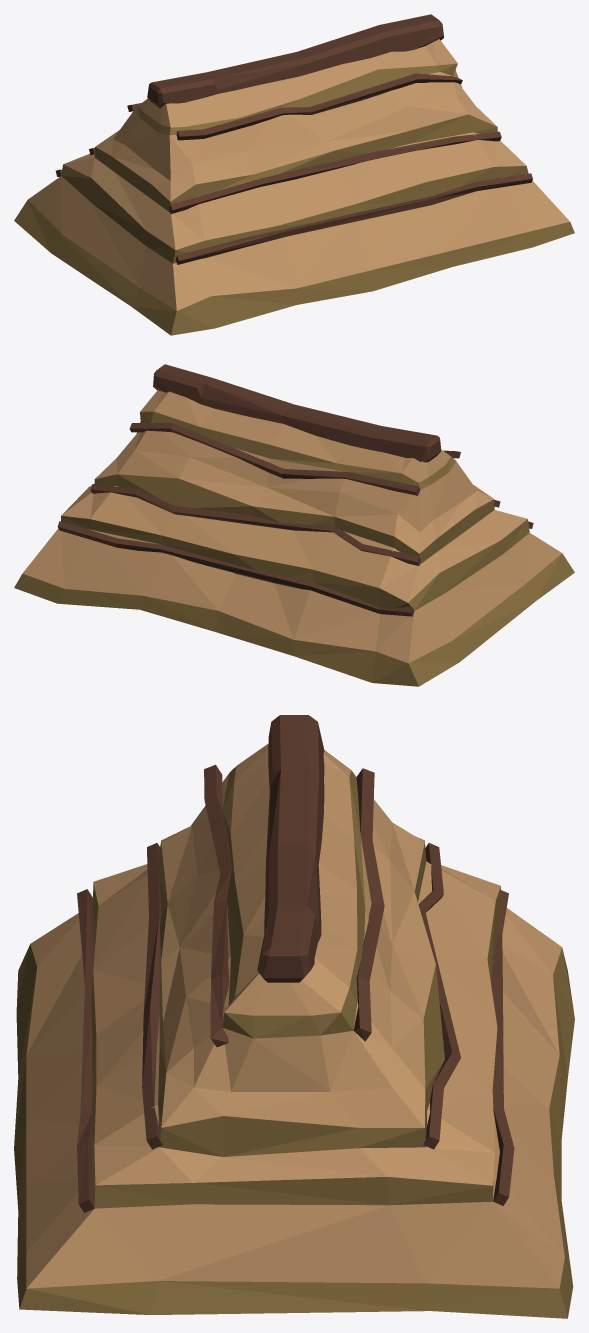
Rendered from Roof_2_2 Asia.fbx.
3 views of the same model, one above another, from view 1: azimuth 30°, elevation 25°; view 2: azimuth 150°, elevation 25°; view 3: azimuth 270°, elevation 25° (orthographic). The views are drawn at different scales.
Visible parts, largest first — view 1: Roof_2_2; view 2: Roof_2_2; view 3: Roof_2_2.
Part boxes in pixels (<box>): Roof_2_2: <box>14,14,574,335</box>; Roof_2_2: <box>14,364,574,686</box>; Roof_2_2: <box>14,715,574,1318</box>.
Size of the model in its own units: 7.38 by 3.16 by 4.96.
